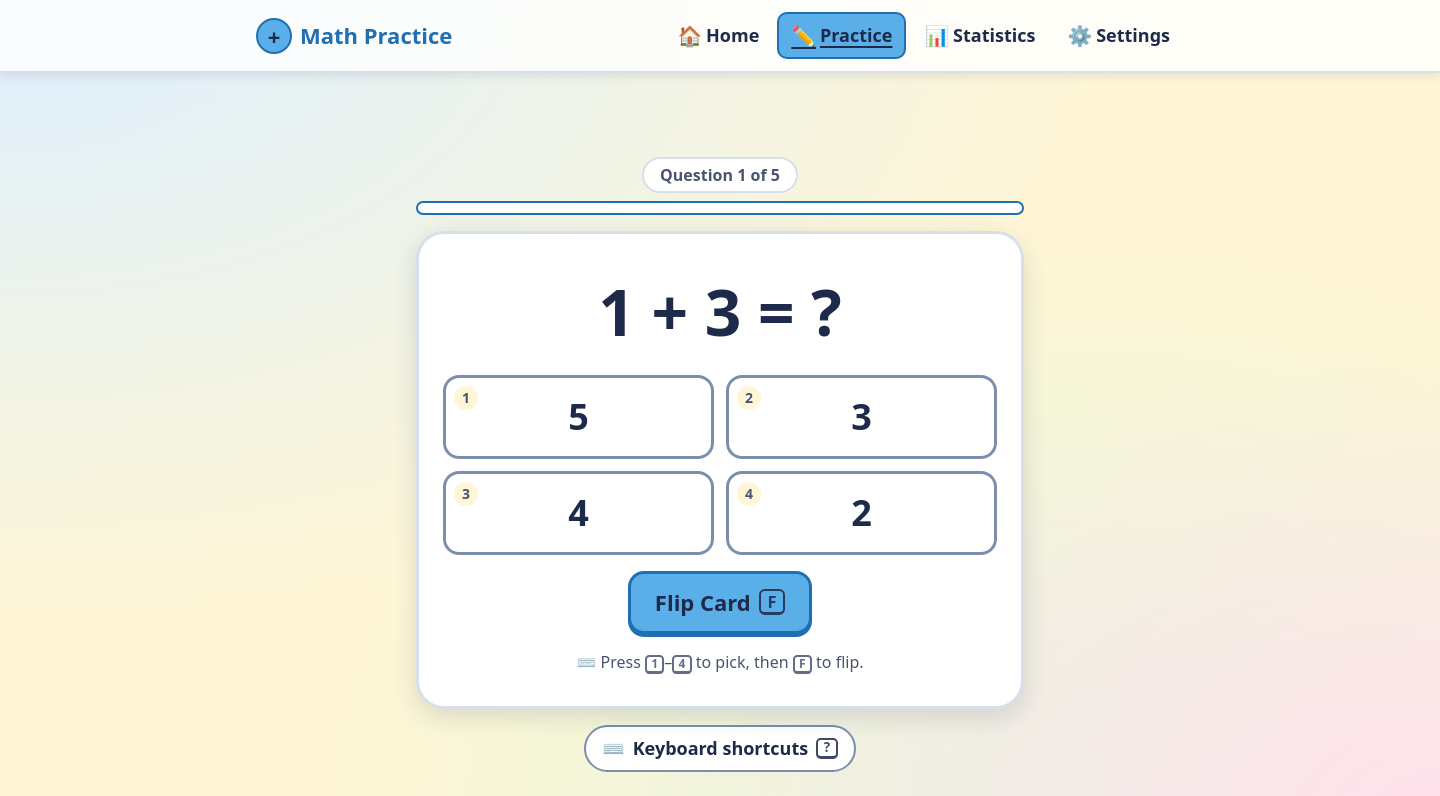
Test: 3. flipping without picking an answer › works with the button, and the result still counts
Click the button "Flip Card F" at [720, 602], box x1=628 y1=571 x2=812 y2=634
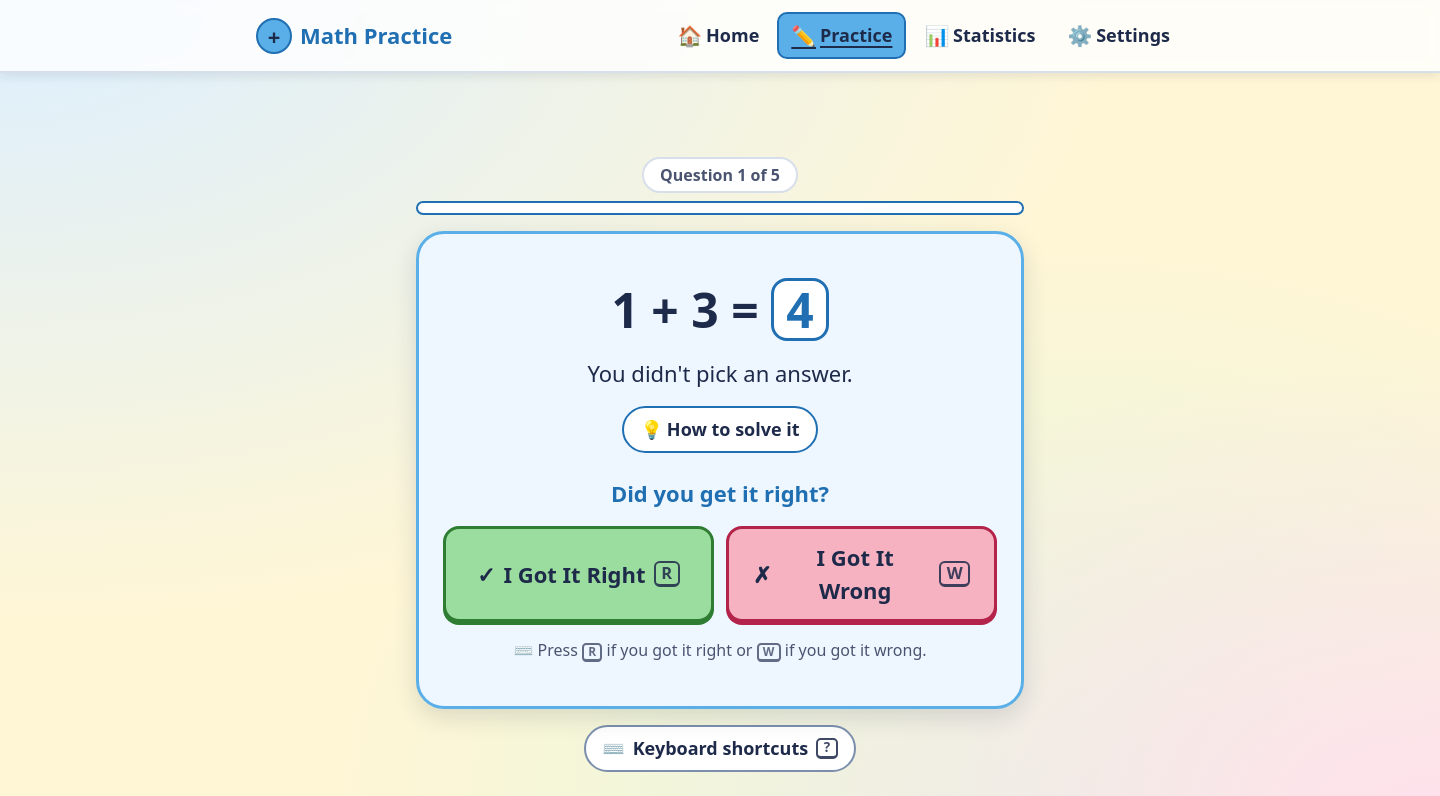
Expected: the text "You didn't pick an answer." is shown, x1=587 y1=357 x2=853 y2=390
Click the button "✗ I Got It Wrong W" at [862, 574], box x1=726 y1=526 x2=997 y2=622
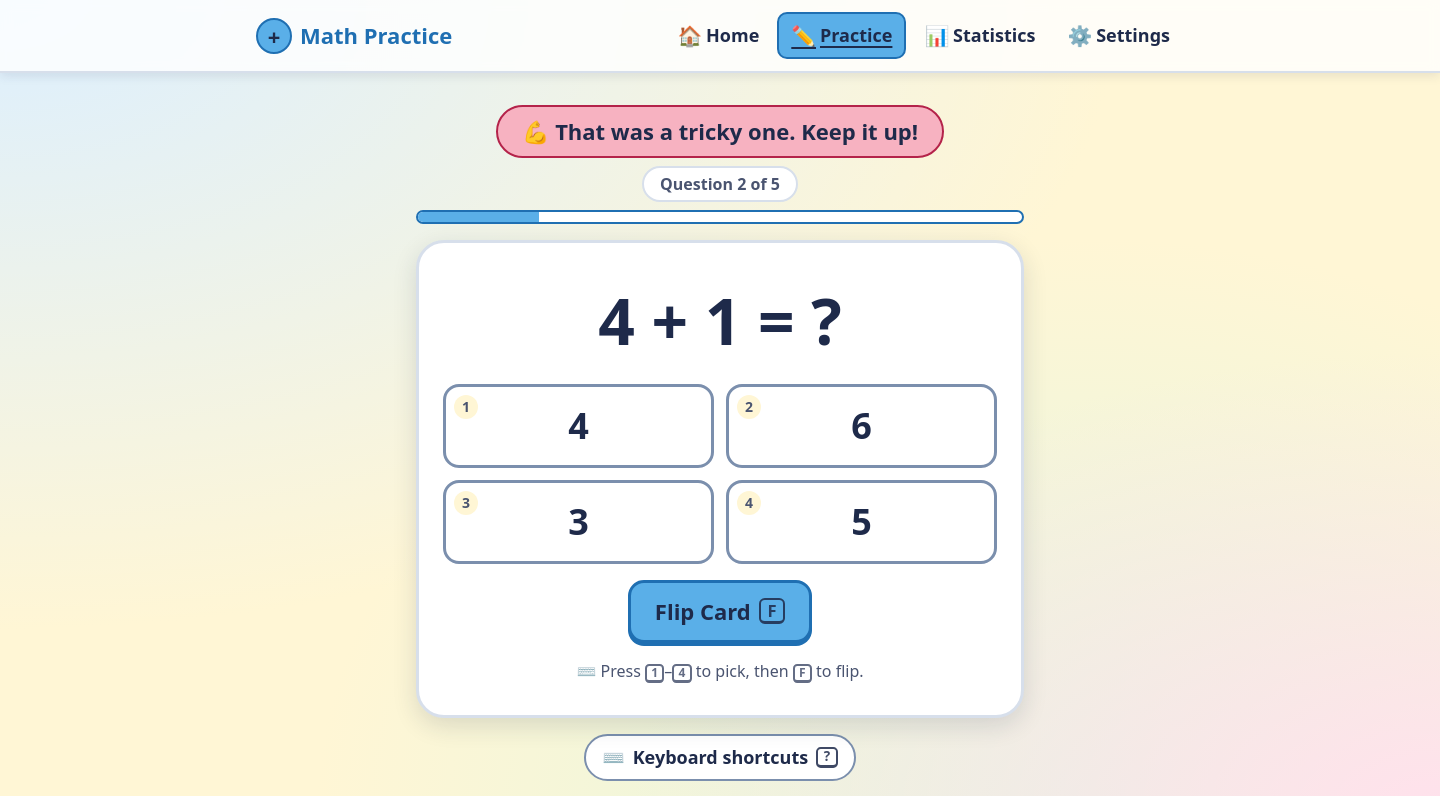
Now the text "Question 2 of 5" is shown, box x1=642 y1=166 x2=798 y2=202
